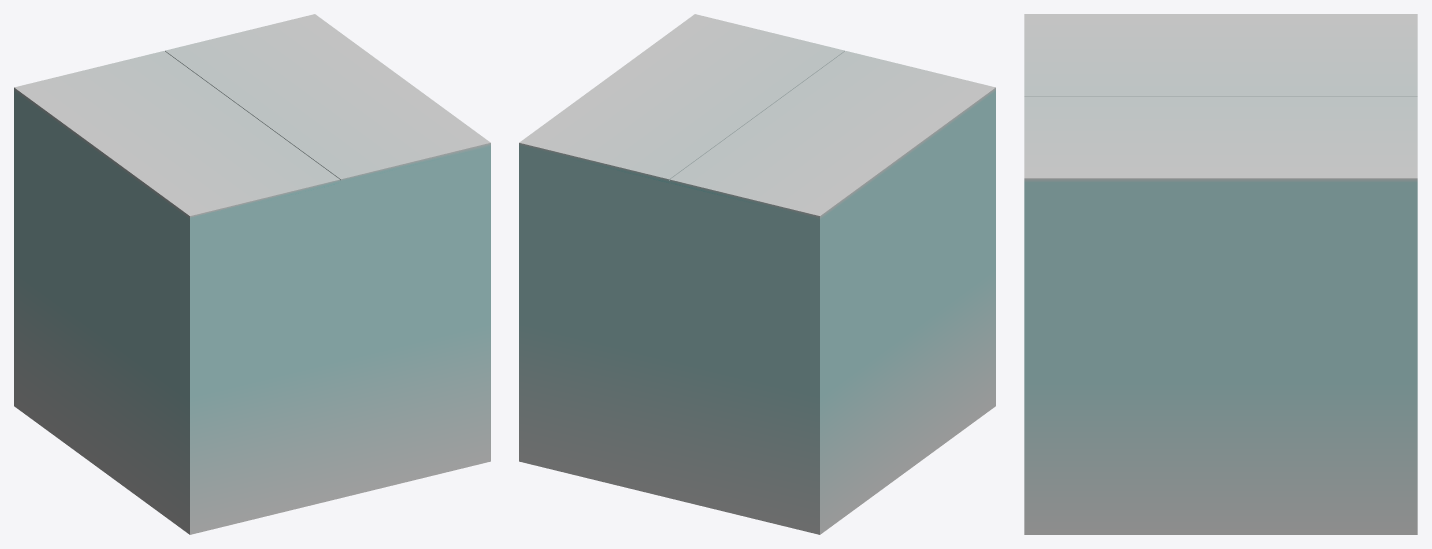
File: simready-box_multiDepth_brown_b09.glb
3 renders of one model, left to right at view 1: azimuth 30°, elevation 25°; view 2: azimuth 150°, elevation 25°; view 3: azimuth 270°, elevation 25°, orthographic. The views are drawn at different scales.
Visible parts, largest first — view 1: band_stack, lower_body, top_half, top_half.001; view 2: band_stack, lower_body, top_half, top_half.001; view 3: band_stack, lower_body, top_half.001, top_half.
Boxes of the visible parts, x1,y1,x2,y2 form: band_stack: (14,91,490,397); lower_body: (14,269,490,534); top_half: (14,51,339,219); top_half.001: (165,14,490,180); band_stack: (519,91,995,397); lower_body: (519,269,995,534); top_half: (670,51,995,219); top_half.001: (519,14,844,182); band_stack: (1024,182,1417,381); lower_body: (1024,380,1417,534); top_half.001: (1024,96,1417,182); top_half: (1024,14,1417,96).
Size of the model in its own units: 0.405 by 0.41 by 0.41.
